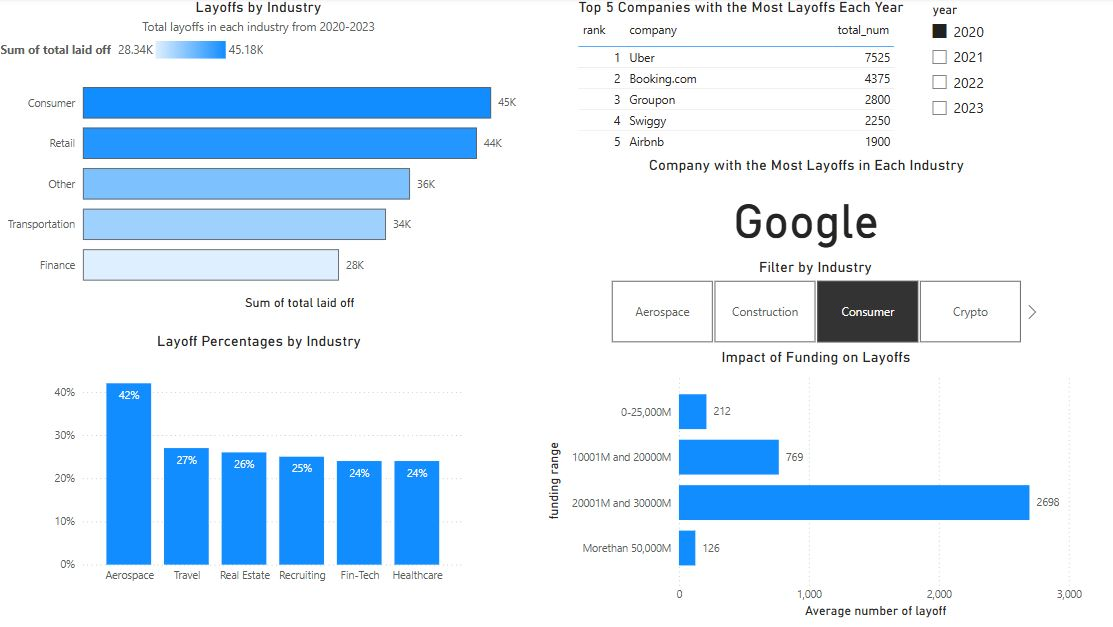

This screenshot's page, from the dashboard's own definition file:
{"tool":"powerbi","page":{"name":"Page 2","canvas":[1280,720],"ordinal":1},"visuals":[{"type":"clusteredBarChart","title":"Impact of Funding on Layoffs","fields":{"Category":["Funding vs  Layoffs.funding_range"],"Y":["Sum(Funding vs  Layoffs.ROUND(AVG(total_laid_off),2))"]},"box":[622,398.7,624.3,312.2],"z":0},{"type":"tableEx","title":"Top 5 Companies with the Most Layoffs Each Year","fields":{"Values":["Top Layoff Events Per Year.rank","Top Layoff Events Per Year.company","Top Layoff Events Per Year.total_num"]},"box":[657.3,0,382.8,201.6],"z":1000},{"type":"slicer","fields":{"Values":["Top Layoff Events Per Year.year"]},"box":[1053.8,0,109.4,157.2],"z":2000},{"type":"card","title":"Company with the Most Layoffs in Each Industry","fields":{"Values":["Min(number1companyeachindustry.company)"]},"box":[675.6,180,495.6,116.2],"z":3000},{"type":"slicer","title":"Filter by Industry","fields":{"Values":["number1companyeachindustry.industry"]},"box":[675.6,296.2,516.1,102.5],"z":4000},{"type":"clusteredColumnChart","title":"Layoff Percentages by Industry","fields":{"Category":["Layoffs percent by Industry.industry"],"Y":["Sum(Layoffs percent by Industry.max_percent)"]},"box":[61.5,380.5,476.2,295.1],"z":5000},{"type":"clusteredBarChart","title":"Layoffs by Industry","fields":{"Category":["Layoffs by Industry.industry"],"Y":["Sum(Layoffs by Industry.sum(total_laid_off))"]},"box":[0,0,598.1,360],"z":6000}]}

Visuals, with their boxes in screenshot pixels (x1, y1, x2, y2), scaled from the page's 1280x720 canvas onto the 1113x627 screenshot:
"Impact of Funding on Layoffs" clusteredBarChart: 541/347/1084/619
"Top 5 Companies with the Most Layoffs Each Year" tableEx: 572/0/904/176
slicer - Top Layoff Events Per Year.year: 916/0/1011/137
"Company with the Most Layoffs in Each Industry" card: 587/157/1018/258
"Filter by Industry" slicer: 587/258/1036/347
"Layoff Percentages by Industry" clusteredColumnChart: 53/331/468/588
"Layoffs by Industry" clusteredBarChart: 0/0/520/314
